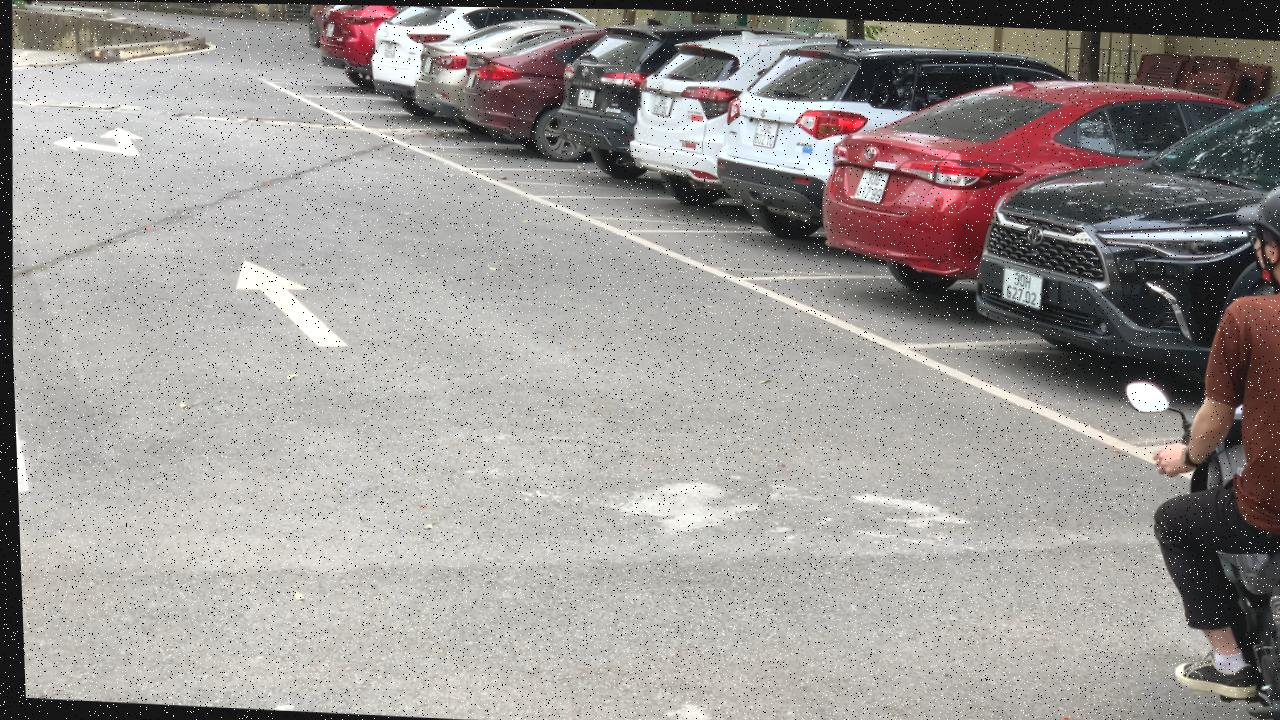helmet: (1232, 175, 1280, 250)
motorcyclist: (1100, 170, 1280, 720)
